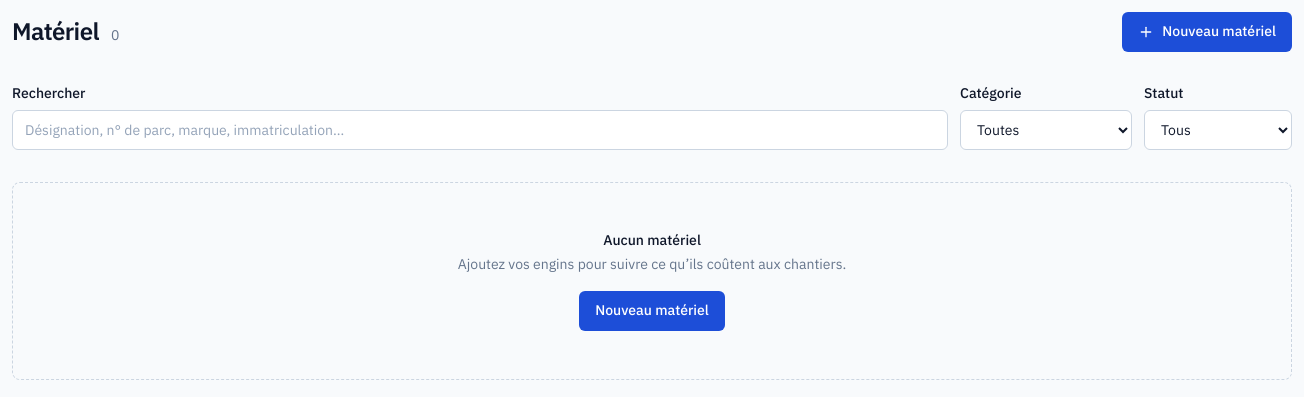
EquipmentListPage › says "aucun matériel" when the fleet is empty, and "no result" under a search
The image size is (1304, 397).
expect the text "Aucun matériel" is shown: met, box [603,230,701,251]
Step 1. Type "volvo" into the search field labelled "Rechercher" → [480, 130], box [12,110,948,150]
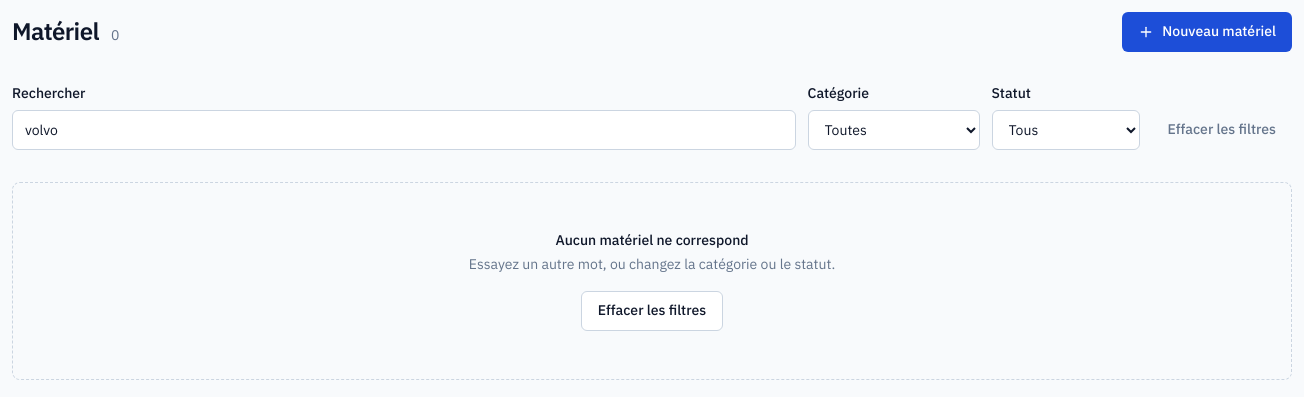
expect the text "Aucun matériel ne correspond" is shown: met, box [555,230,749,251]
